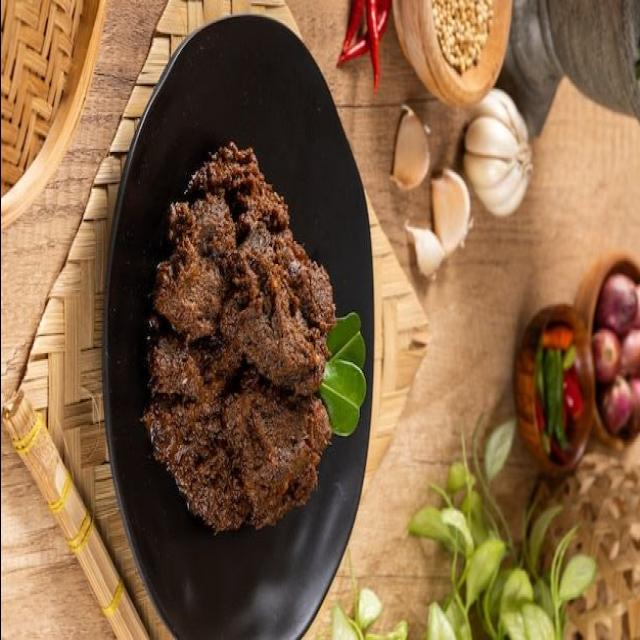rendang: (137, 138, 357, 534)
